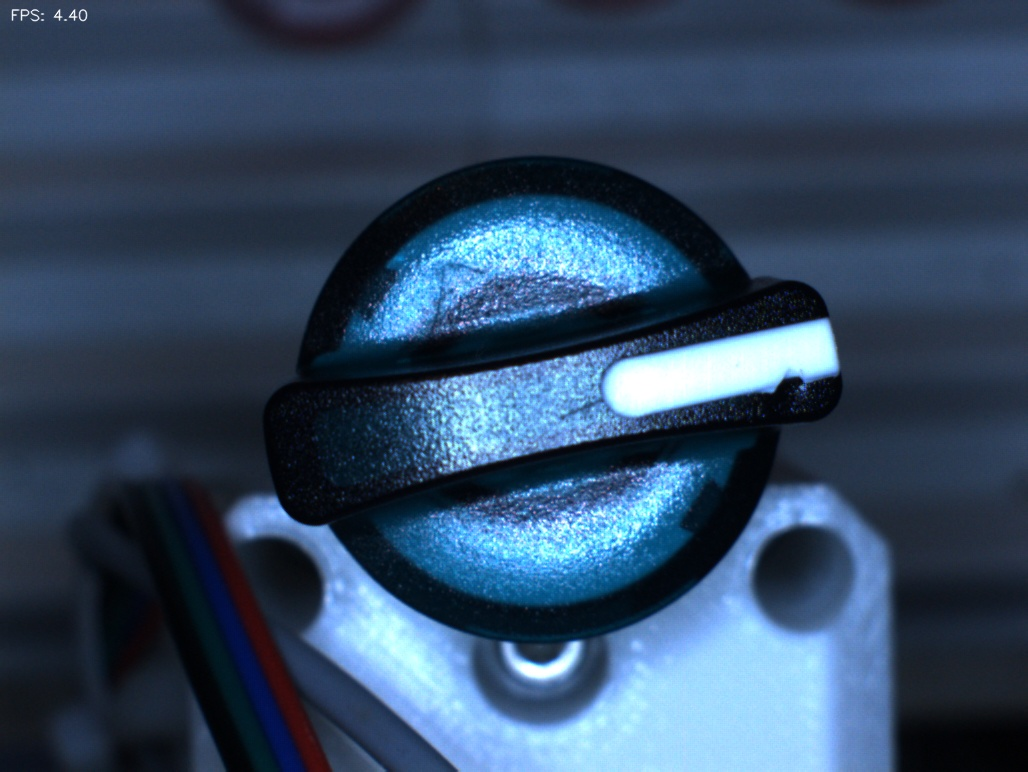Choc: (754, 353, 822, 421)
